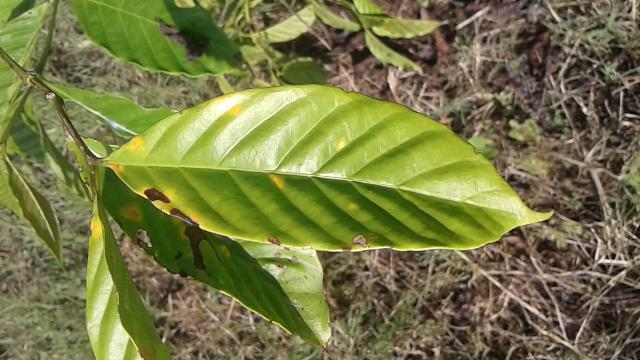rust_level_1: (102, 85, 556, 246)
